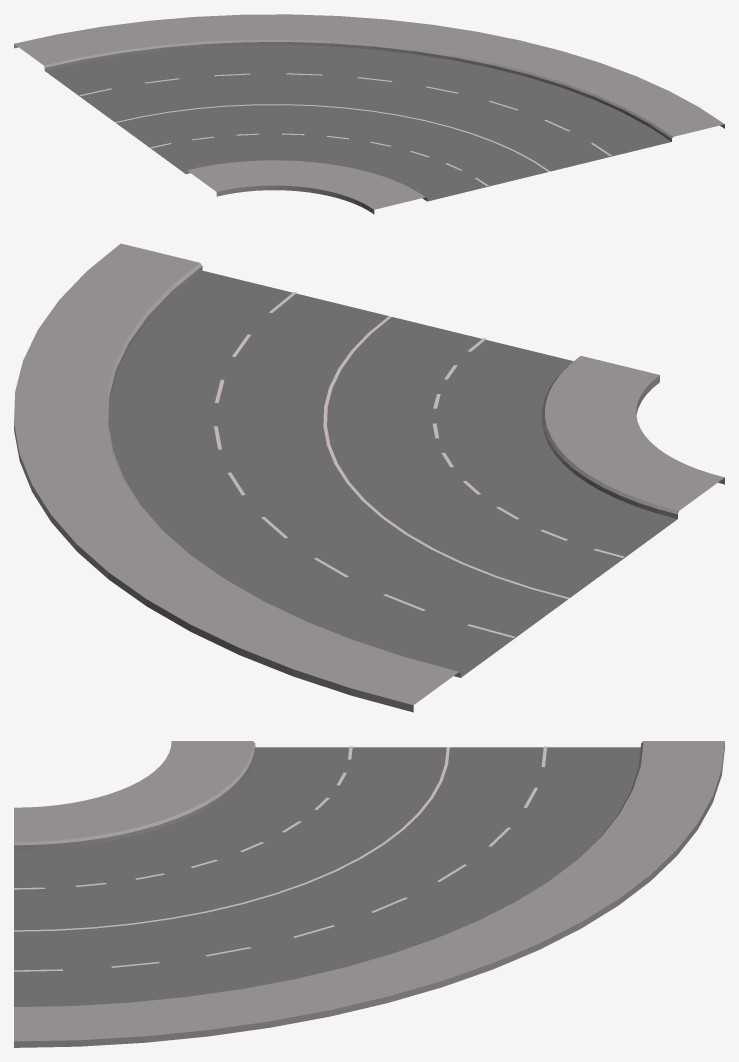
File: road_90 turn_patch.fbx
3 renders of one model, top to bottom at view 1: azimuth 30°, elevation 25°; view 2: azimuth 150°, elevation 25°; view 3: azimuth 270°, elevation 25°, orthographic. The views are drawn at different scales.
Parts seen in each view (by area): view 1: road_90 turn_patch; view 2: road_90 turn_patch; view 3: road_90 turn_patch.
Boxes of the visible parts, left/top/right/bottom form: road_90 turn_patch: left=14, top=14, right=724, bottom=214; road_90 turn_patch: left=14, top=243, right=724, bottom=712; road_90 turn_patch: left=14, top=741, right=724, bottom=1047.
Bounding box in the file's own units: 2654 × 26.46 × 2654.
